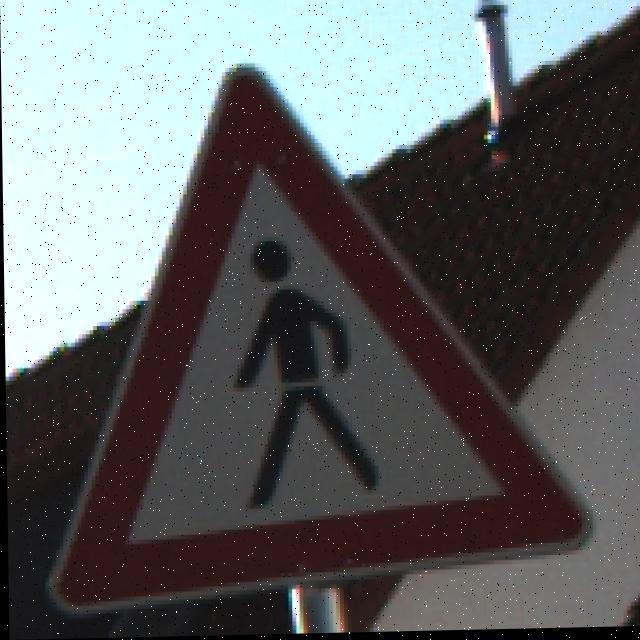crosswalk: (57, 97, 601, 606)
